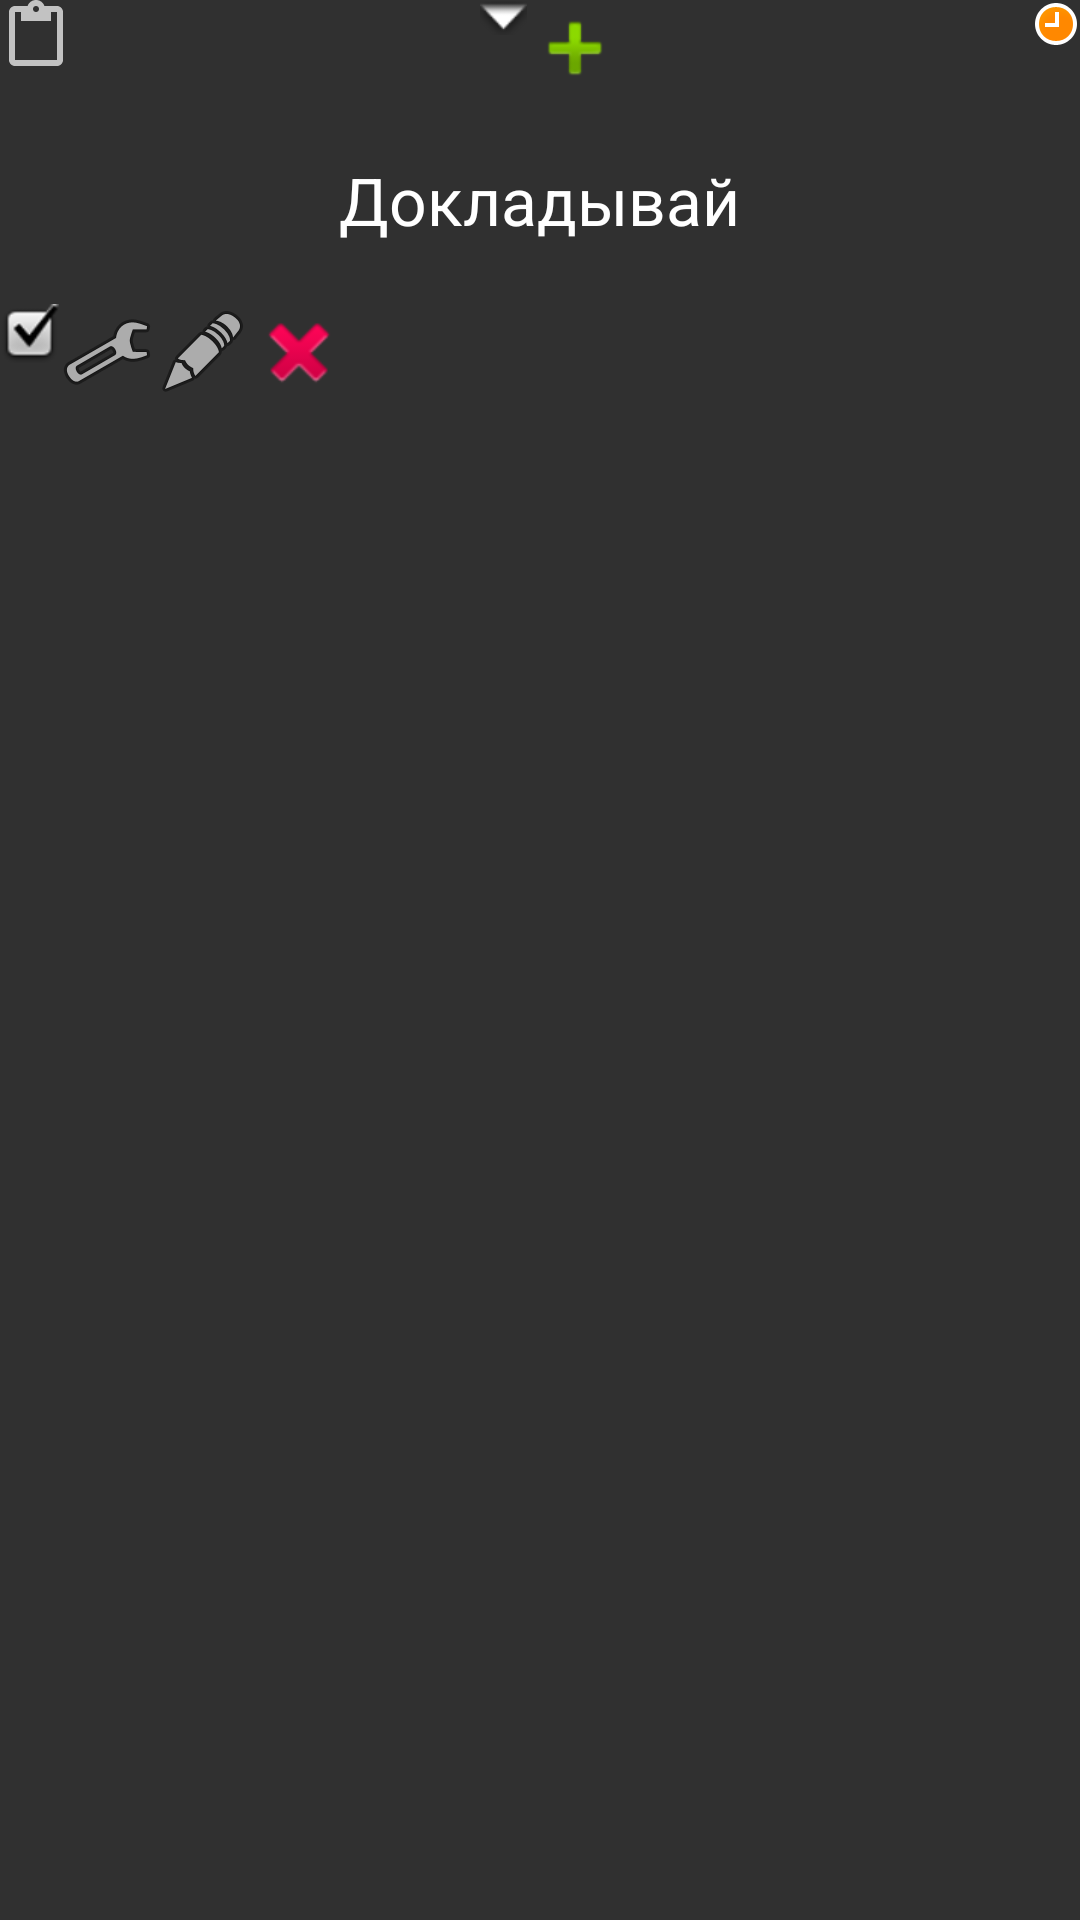

Icon bounding boxes for this 1080px×1920px phone screenshot, format [x1,y1,x2,y2]:
add: [548,21,602,75]
edit: [164,313,241,390]
manage: [66,321,148,383]
presence away: [1035,3,1077,45]
